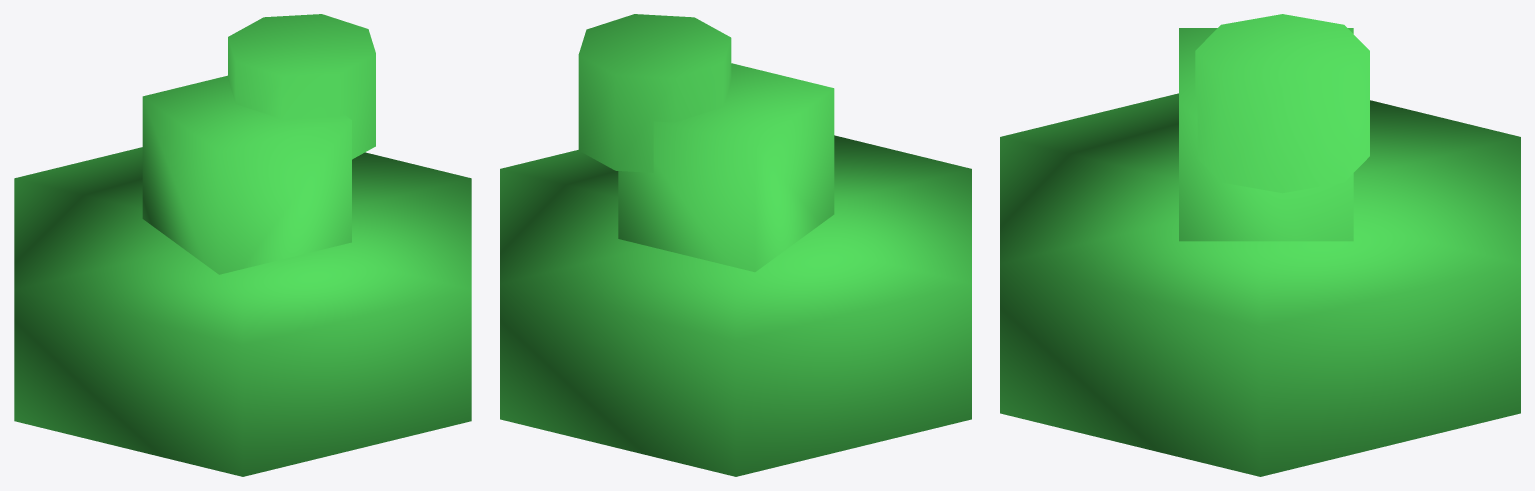
Rendered from ps2_jrpg_sacred_ancient_fern_frond.obj.
3 renders of one model, left to right at view 1: azimuth 30°, elevation 25°; view 2: azimuth 150°, elevation 25°; view 3: azimuth 270°, elevation 25°, orthographic. The views are drawn at different scales.
Size of the model in its own units: 1.24 by 0.7674 by 1.07.
